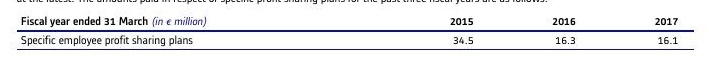table: (0, 0, 709, 68)
